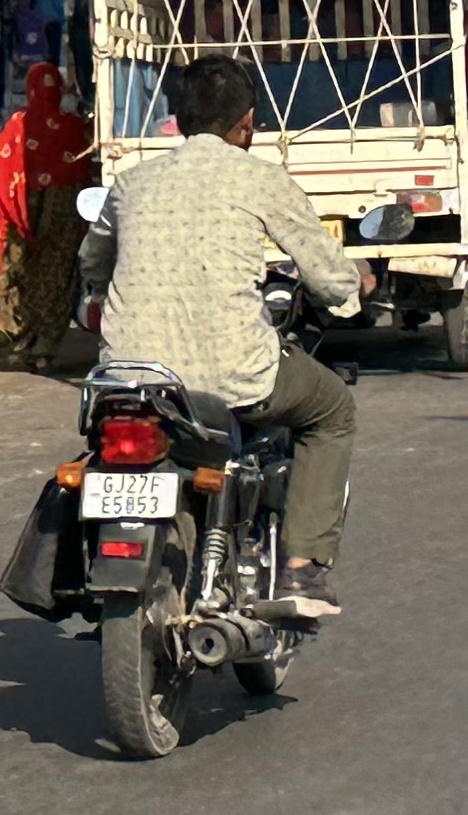BikeWithRider: (5, 50, 418, 754)
NoHelmet: (166, 50, 260, 160)
